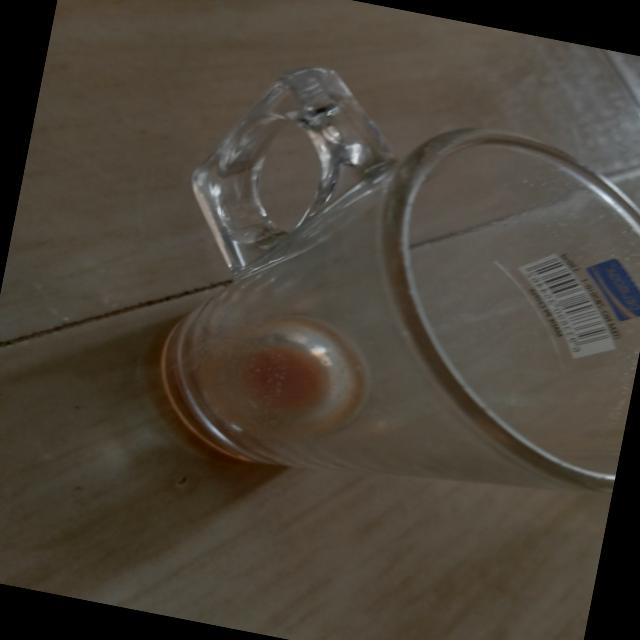glass-VX4N: (125, 41, 640, 530)
